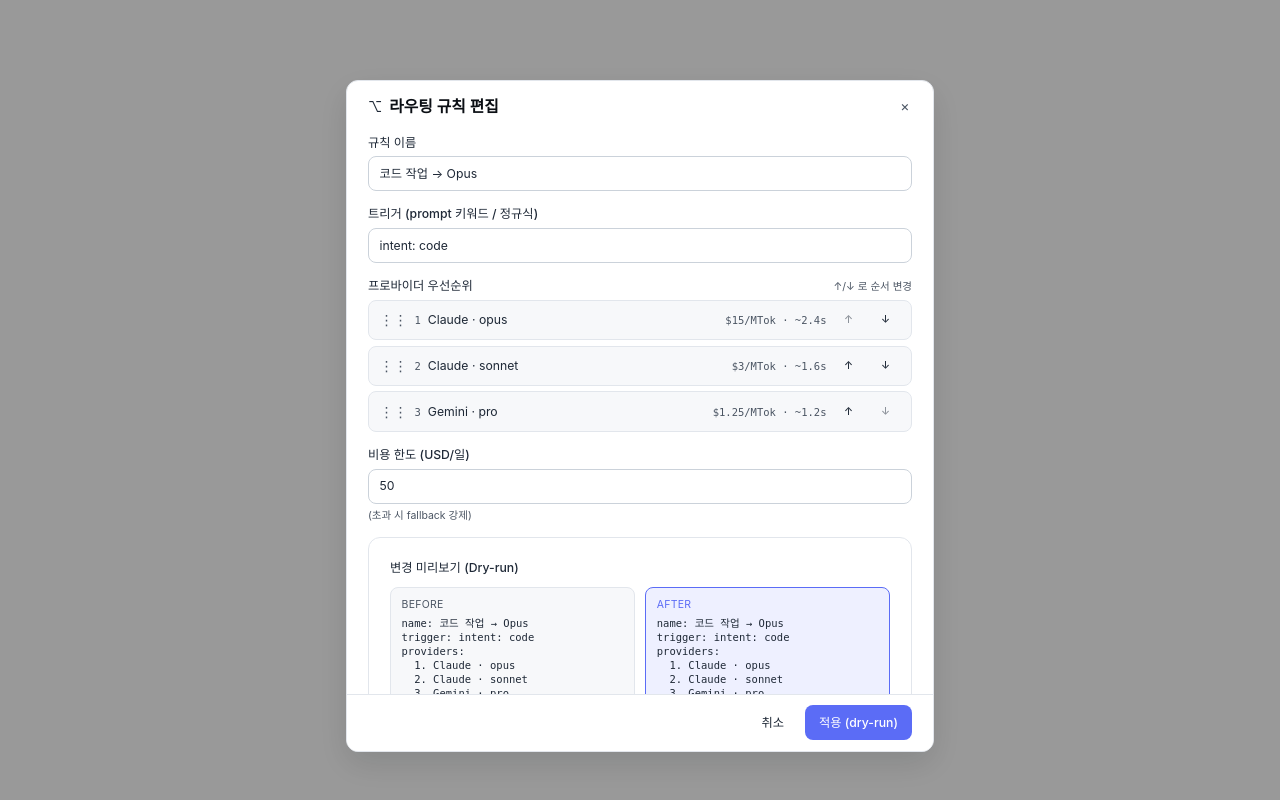
Test case: RoutingRuleEditorModal › provider ↓ 버튼 클릭 시 순서가 교체된다
The image size is (1280, 800).
# 첫 항목을 한 칸 내림 → 두 번째 자리로.
Click the button with test id "rule-provider-0-down".
click(886, 320)  # box [870, 308, 900, 332]
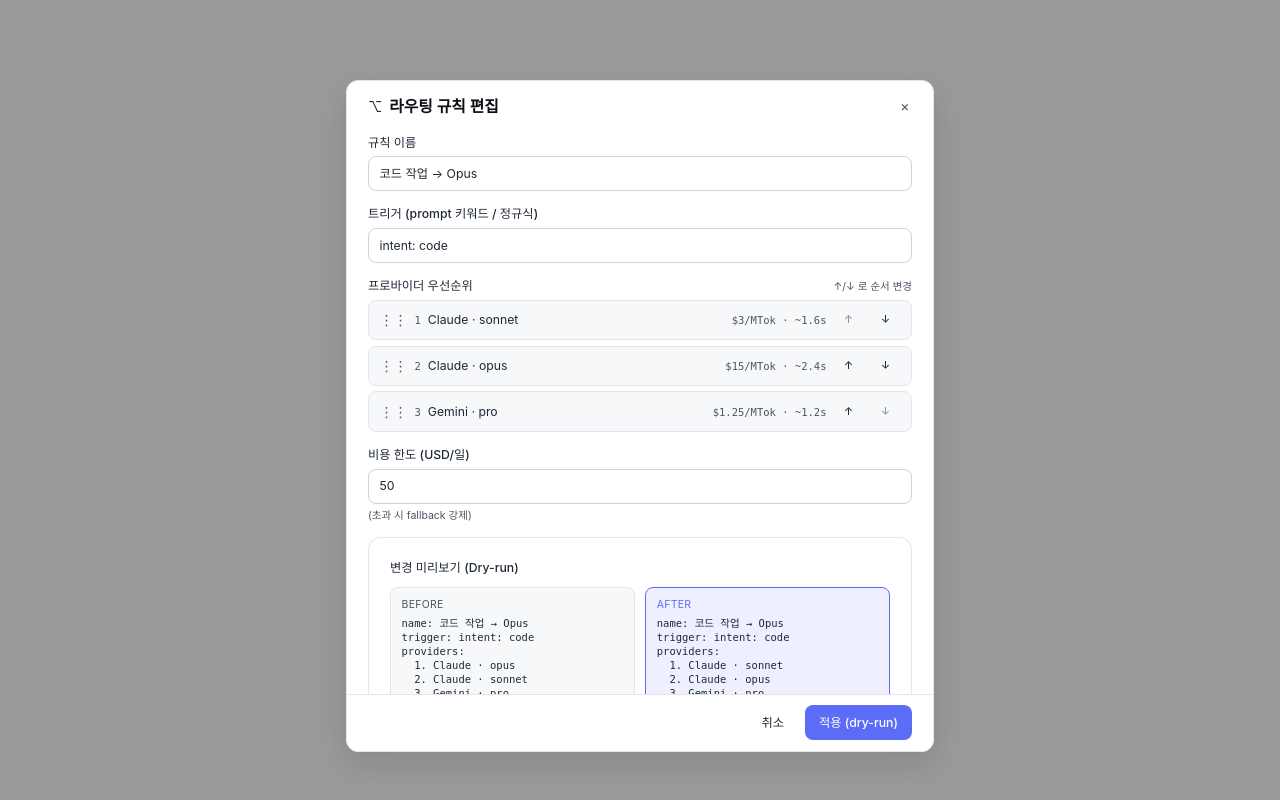
Result: the list item with test id "rule-provider-1" shows "Claude · opus" at [428, 358, 508, 373]
